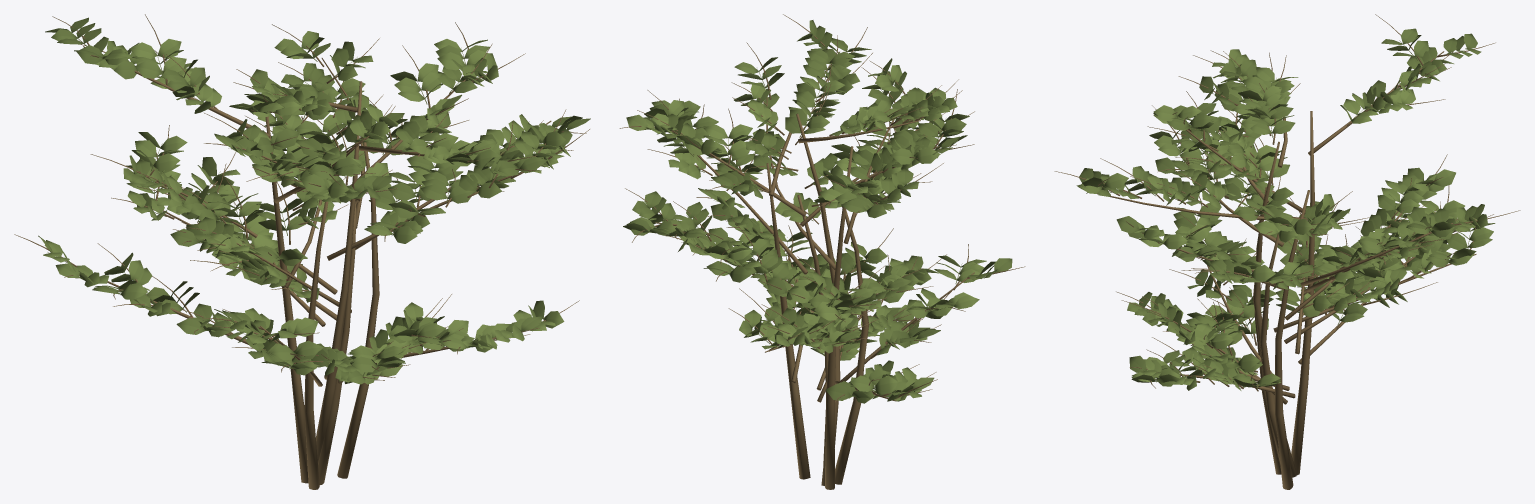
The model's file is Lentisque_1_LOD0.fbx.
3 views of the same model, side by side, from view 1: azimuth 30°, elevation 25°; view 2: azimuth 150°, elevation 25°; view 3: azimuth 270°, elevation 25° (orthographic). The views are drawn at different scales.
Visible parts, largest first — view 1: Lentisque_1_LOD0; view 2: Lentisque_1_LOD0; view 3: Lentisque_1_LOD0.
Part boxes in pixels (<box>): Lentisque_1_LOD0: <box>14,14,590,489</box>; Lentisque_1_LOD0: <box>619,14,1025,489</box>; Lentisque_1_LOD0: <box>1054,14,1520,489</box>.
Bounding box in the file's own units: 201 × 188 × 205.
